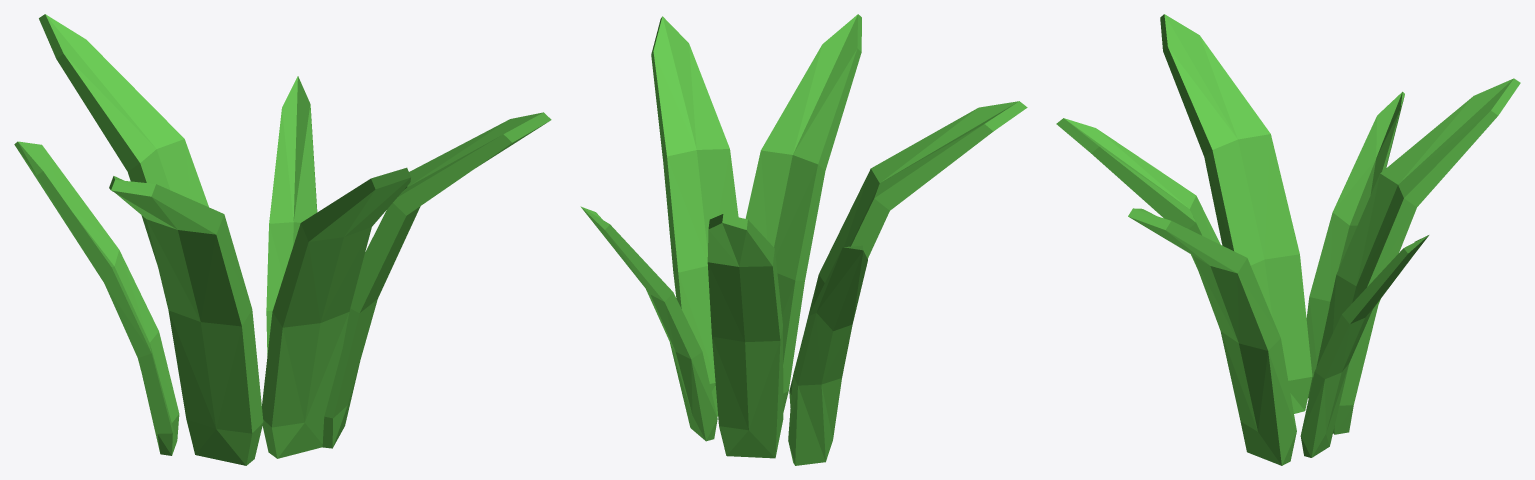
The model's file is Grass 02.fbx.
3 views of the same model, side by side, from view 1: azimuth 30°, elevation 25°; view 2: azimuth 150°, elevation 25°; view 3: azimuth 270°, elevation 25° (orthographic). The views are drawn at different scales.
Parts seen in each view (by area): view 1: Grass 03; view 2: Grass 03; view 3: Grass 03.
Part boxes in pixels (bbox=[...]): Grass 03: bbox=[14, 14, 551, 465]; Grass 03: bbox=[580, 14, 1027, 465]; Grass 03: bbox=[1056, 14, 1520, 465].
Size of the model in its own units: 72.68 by 60.43 by 78.42.
